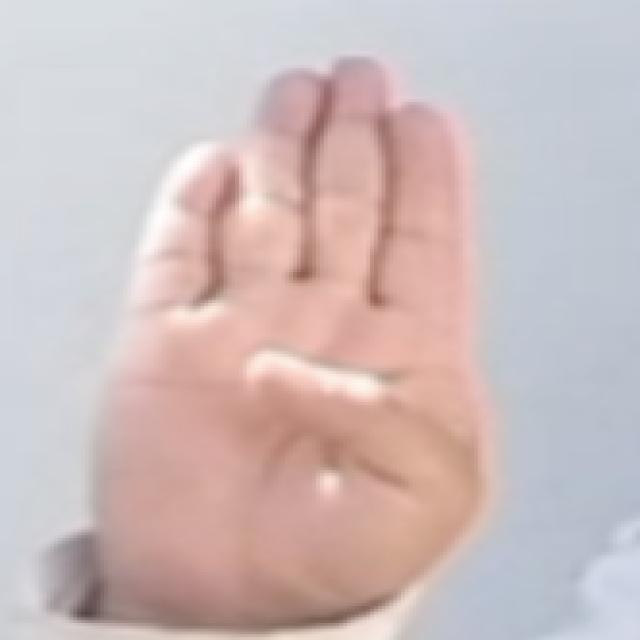B: (86, 43, 508, 612)
